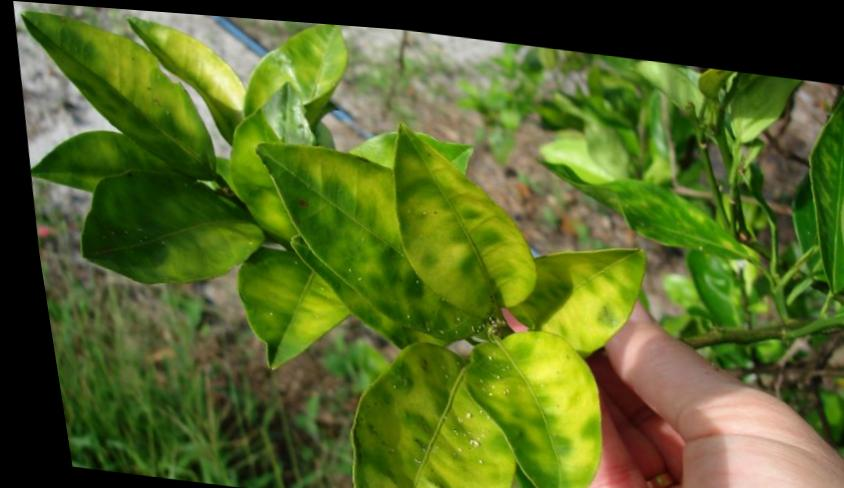Citrus Greening: (241, 138, 485, 316), (370, 112, 542, 319), (7, 10, 218, 177), (305, 321, 513, 488), (450, 314, 604, 488), (66, 162, 255, 289), (494, 221, 653, 341), (571, 166, 753, 255)
